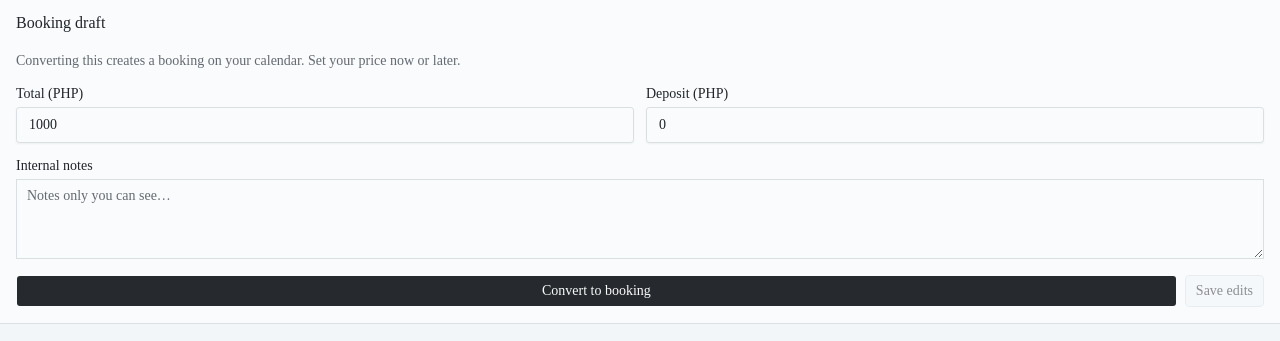
BookingDraftCard › save button is disabled when not dirty and enables after a field change
Check: the button "Save edits" is disabled, box x1=1185 y1=275 x2=1264 y2=307
Replace the text in the number field labelled "Total (PHP)" with "2000": point(325, 125) x1=16 y1=107 x2=634 y2=143
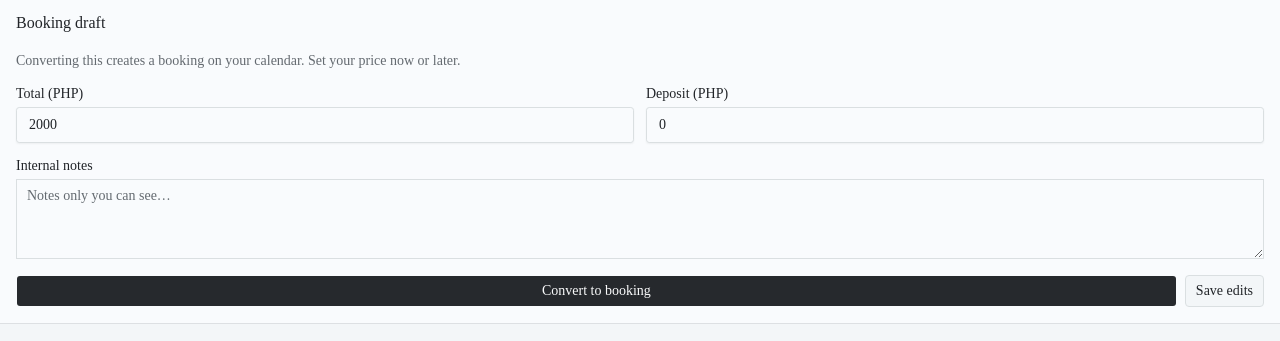
Check: the button "Save edits" is enabled, box x1=1185 y1=275 x2=1264 y2=307
